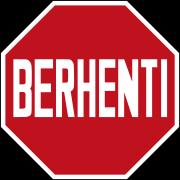Stop: (7, 22, 175, 154)
